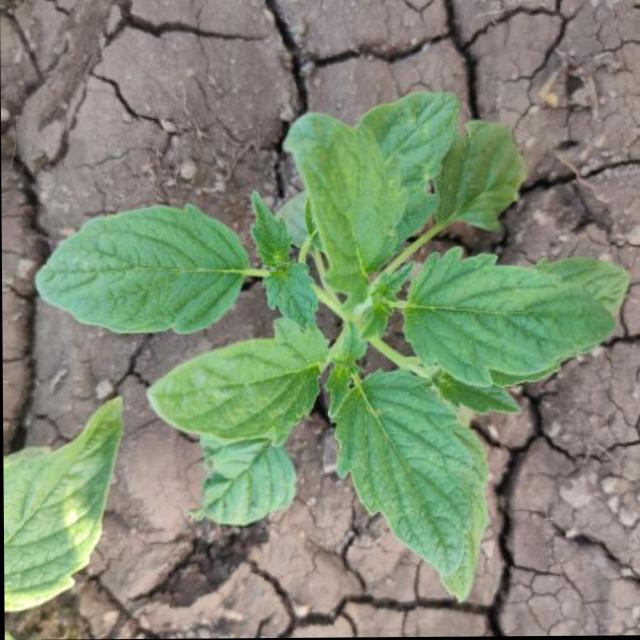crop: (30, 82, 632, 545)
